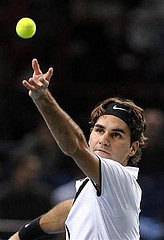tennis ball: (15, 16, 37, 39)
